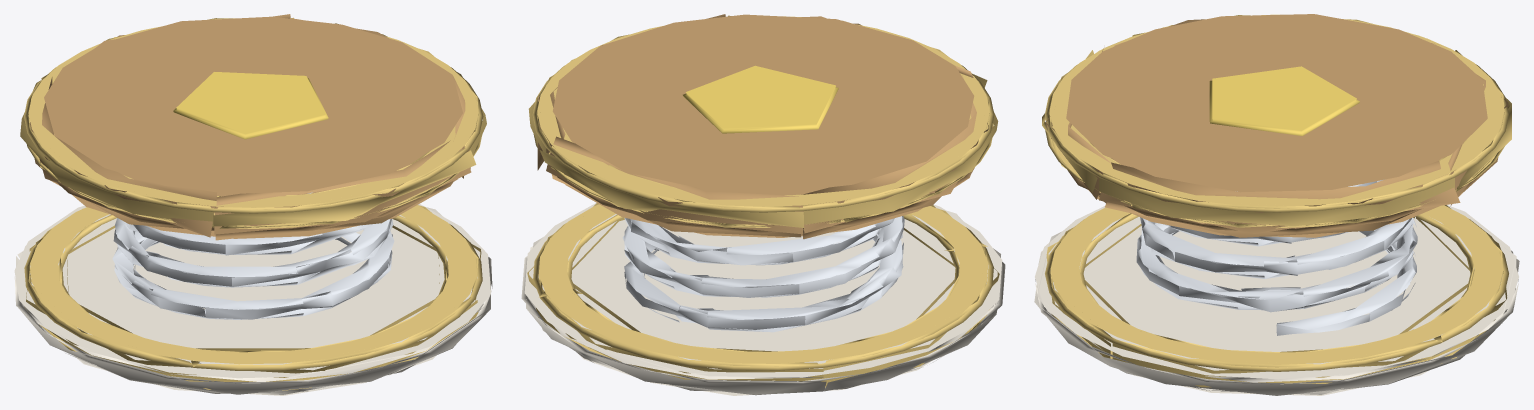
File: trampoline_wood_coil.glb
3 views of the same model, side by side, from view 1: azimuth 30°, elevation 25°; view 2: azimuth 150°, elevation 25°; view 3: azimuth 270°, elevation 25° (orthographic).
Parts seen in each view (by area): view 1: WoodPad, BasePlate, BaseBrass, BrassRim, Coil, StarInlay; view 2: WoodPad, BasePlate, BaseBrass, Coil, BrassRim, StarInlay; view 3: WoodPad, BasePlate, BaseBrass, BrassRim, Coil, StarInlay.
Boxes of the visible parts, x1,y1,x2,y2 form: WoodPad: (30, 14, 474, 240); BasePlate: (14, 204, 492, 395); BaseBrass: (24, 205, 482, 390); BrassRim: (20, 17, 486, 228); Coil: (112, 192, 394, 319); StarInlay: (173, 72, 328, 139); WoodPad: (537, 14, 988, 239); BasePlate: (521, 203, 1005, 395); BaseBrass: (527, 203, 999, 387); Coil: (622, 216, 904, 332); BrassRim: (528, 15, 998, 227); StarInlay: (683, 65, 838, 133); WoodPad: (1045, 14, 1508, 237); BasePlate: (1034, 205, 1519, 395); BaseBrass: (1045, 205, 1508, 387); BrassRim: (1042, 14, 1511, 228); Coil: (1136, 179, 1417, 335); StarInlay: (1209, 66, 1359, 136).
Bounding box in the file's own units: 2.88 × 1.33 × 2.88.
